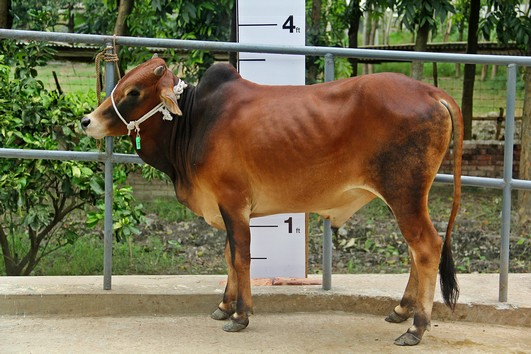cow: (71, 48, 449, 348)
